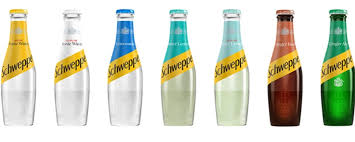not-coke: (1, 7, 44, 135)
